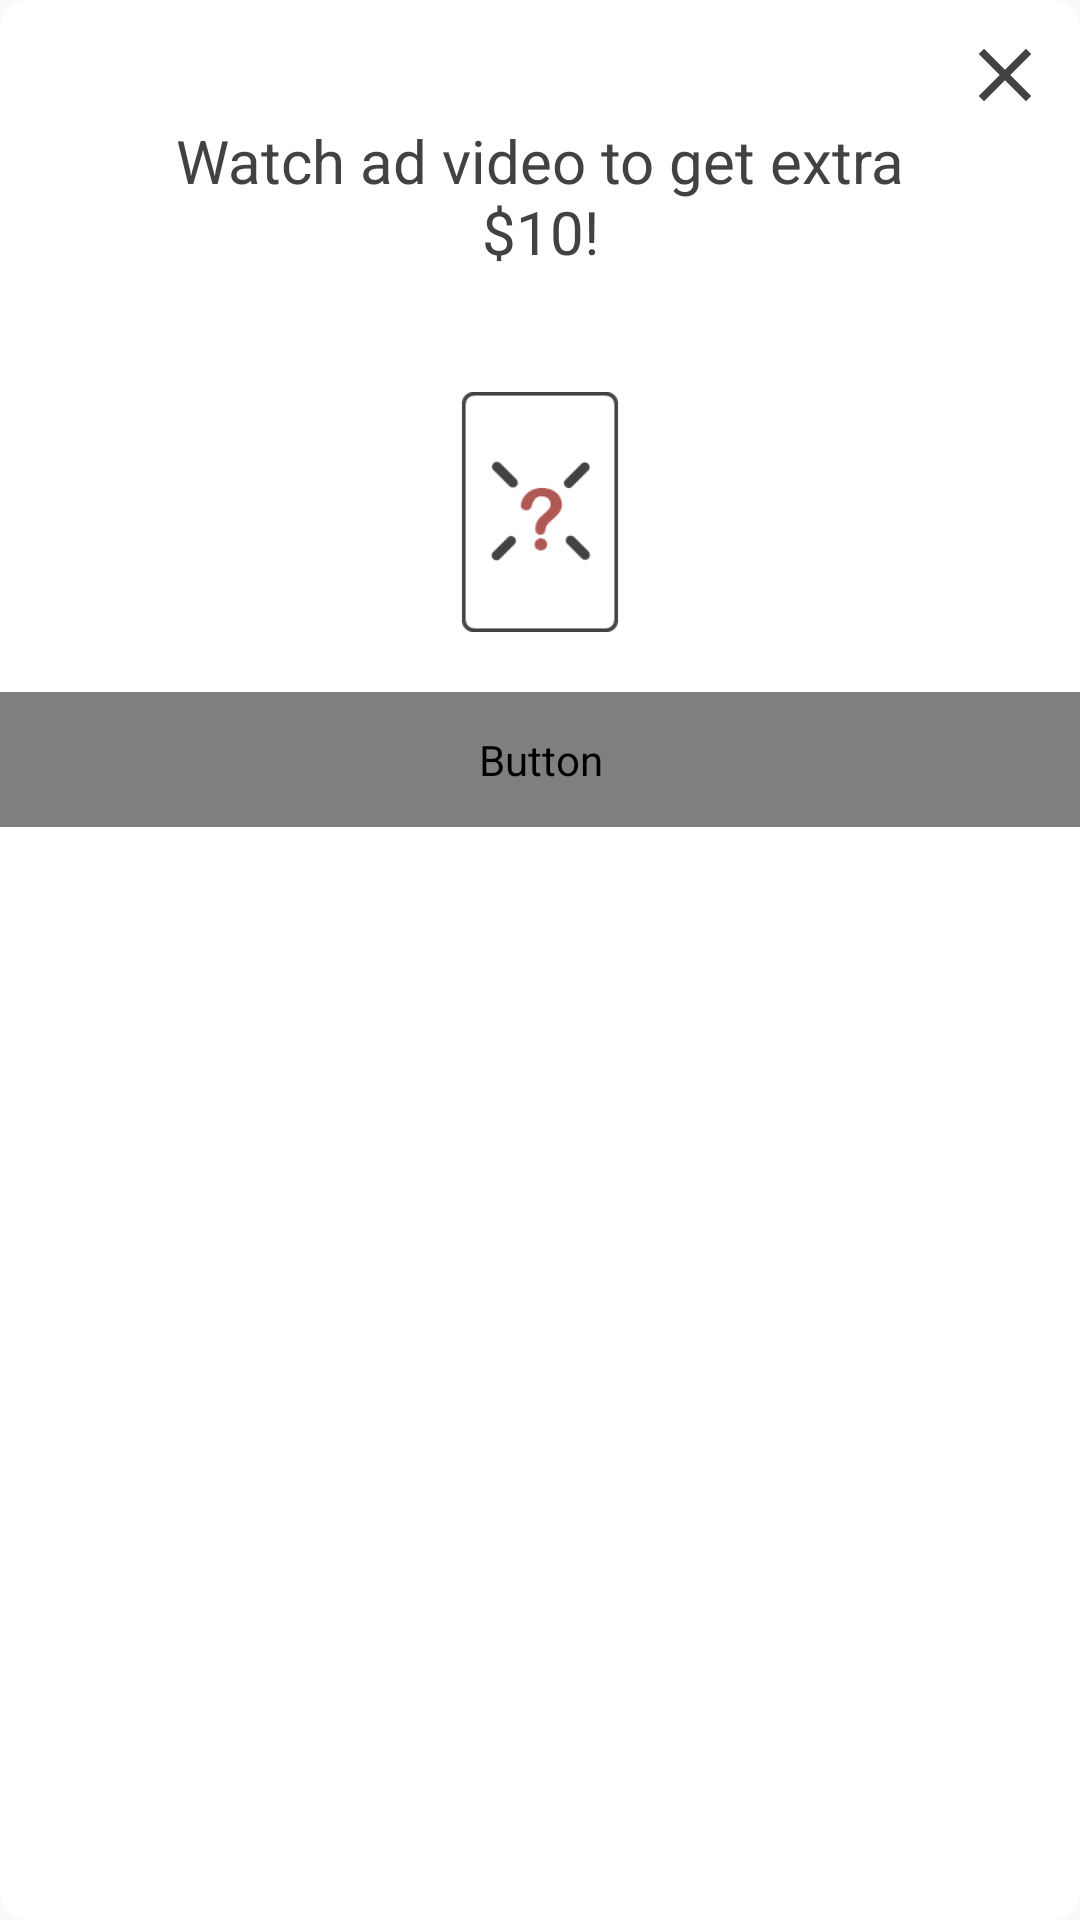

Named icons in this screenshot (1080*1920) and their centers, [x,y]:
close: [1005,75]
